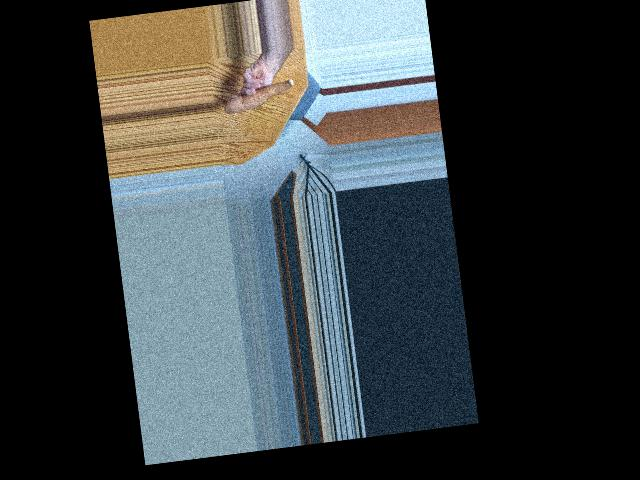sweet_potato: (222, 75, 297, 117)
